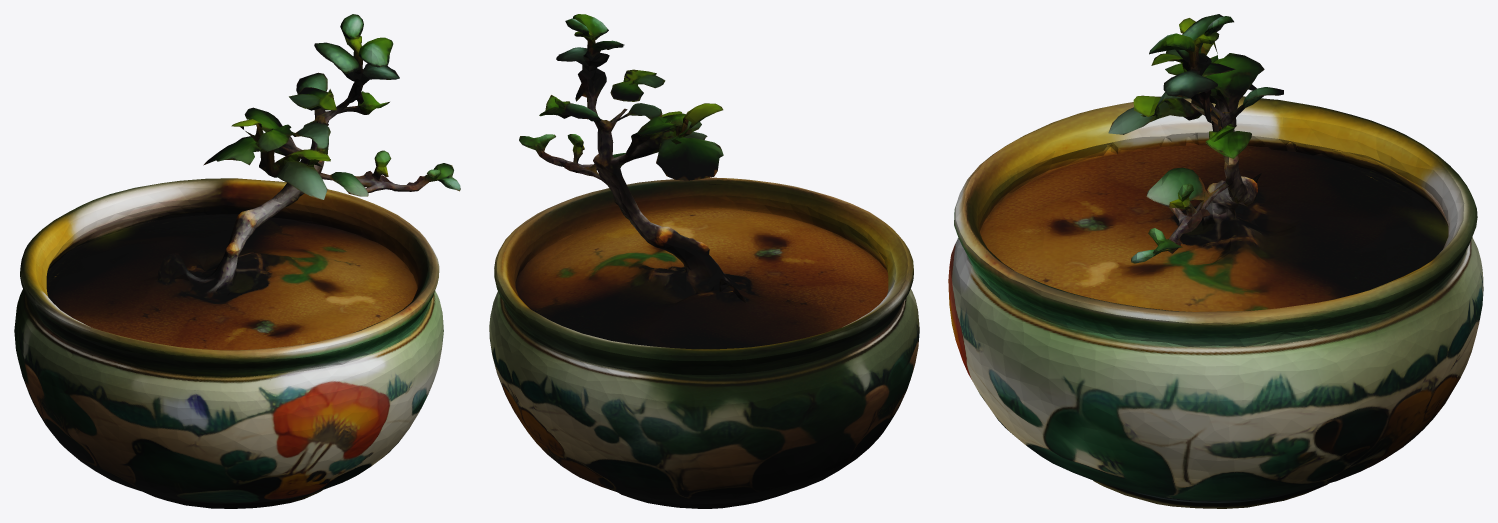
The model's file is ceramic-bonsai-pot-japanese.jpeg.glb.
3 views of the same model, side by side, from view 1: azimuth 30°, elevation 25°; view 2: azimuth 150°, elevation 25°; view 3: azimuth 270°, elevation 25° (orthographic). The views are drawn at different scales.
Parts seen in each view (by area): view 1: world; view 2: world; view 3: world.
Boxes of the visible parts, x1=… form: world: x1=14, y1=14, x2=460, y2=508; world: x1=489, y1=14, x2=919, y2=508; world: x1=948, y1=14, x2=1483, y2=508.
Bounding box in the file's own units: 0.9609 × 0.9742 × 0.9224.
1 material, 1 textured.
